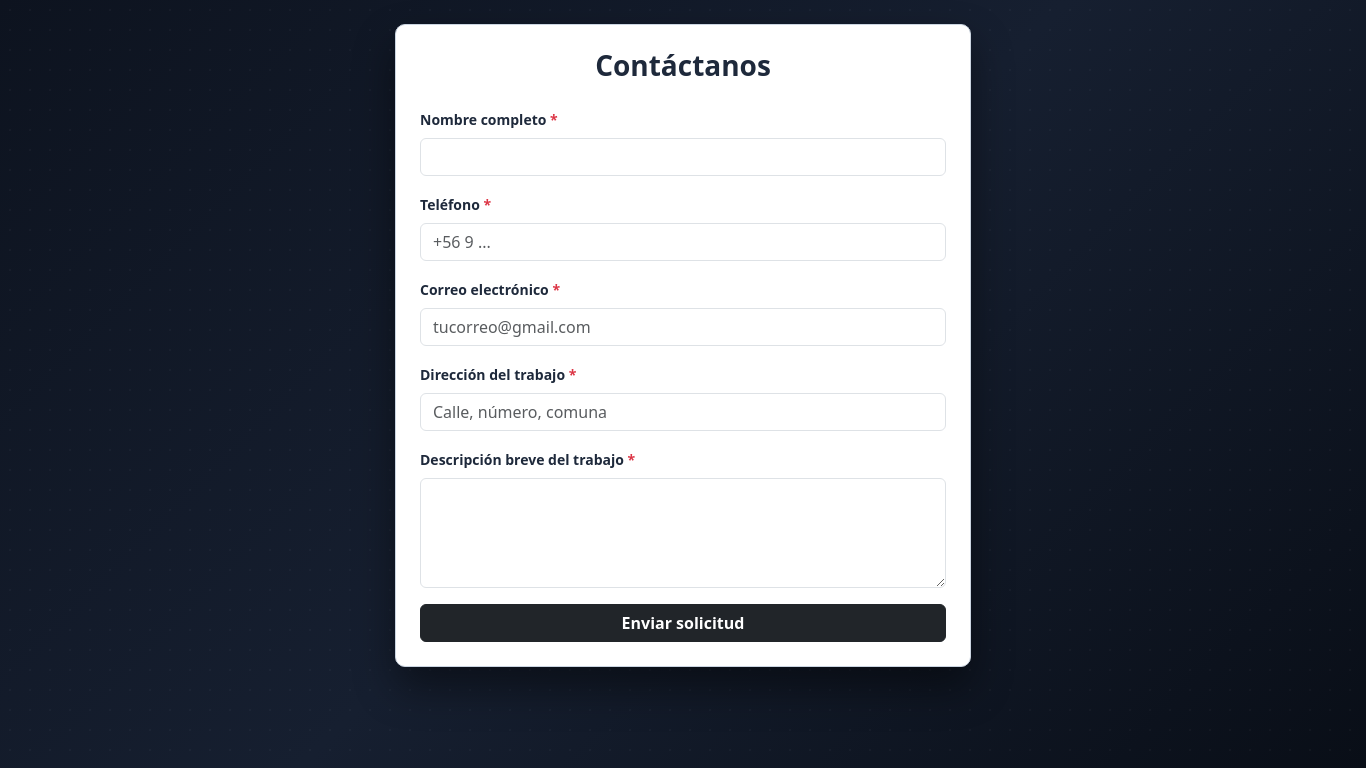
Test case: Pruebas de estado: Contacto › muestra el mensaje de éxito y limpia el formulario cuando los datos son válidos
Step 1. Type "Camilo Godoy" into the field labelled "Nombre completo *" → (683, 157), box [420,138,946,176]
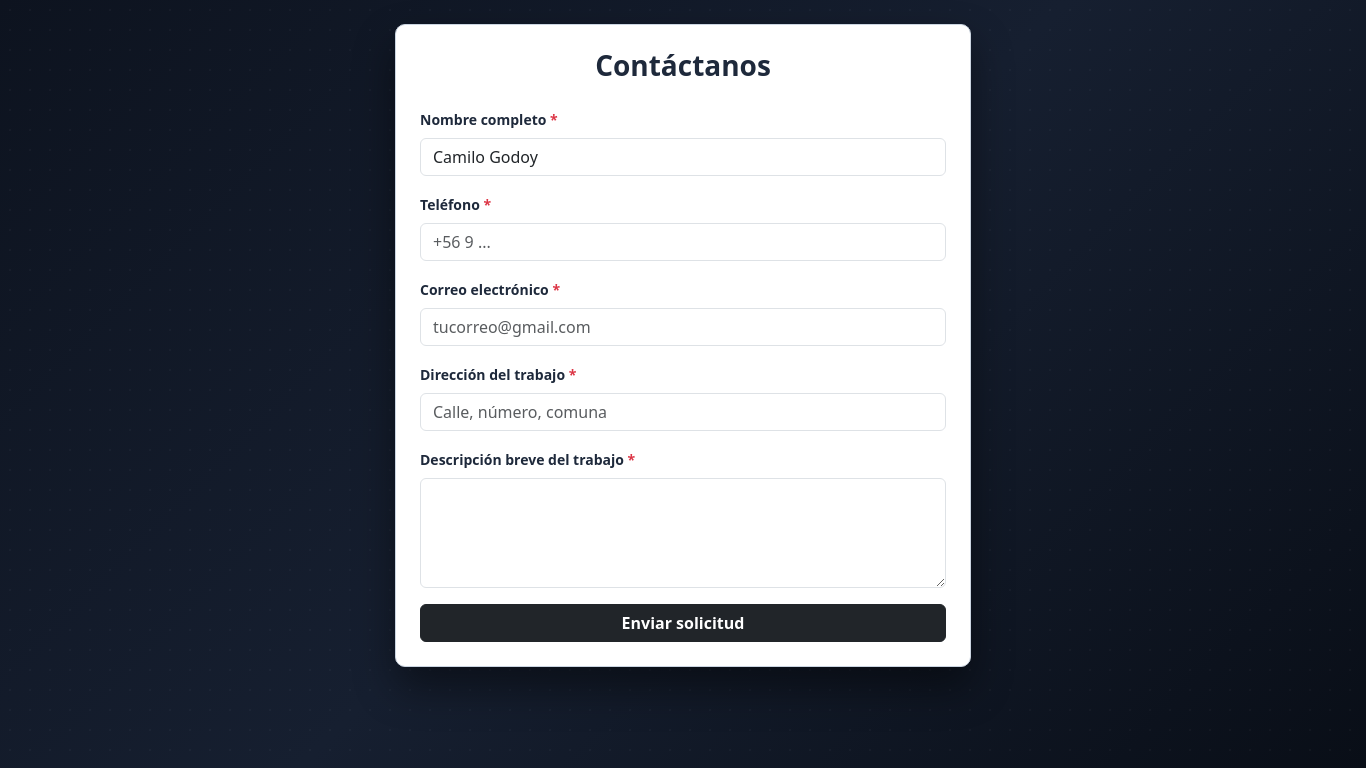
Step 2. Type "+56 9 1234 5678" into the field labelled "Teléfono *" → (683, 242), box [420,223,946,261]
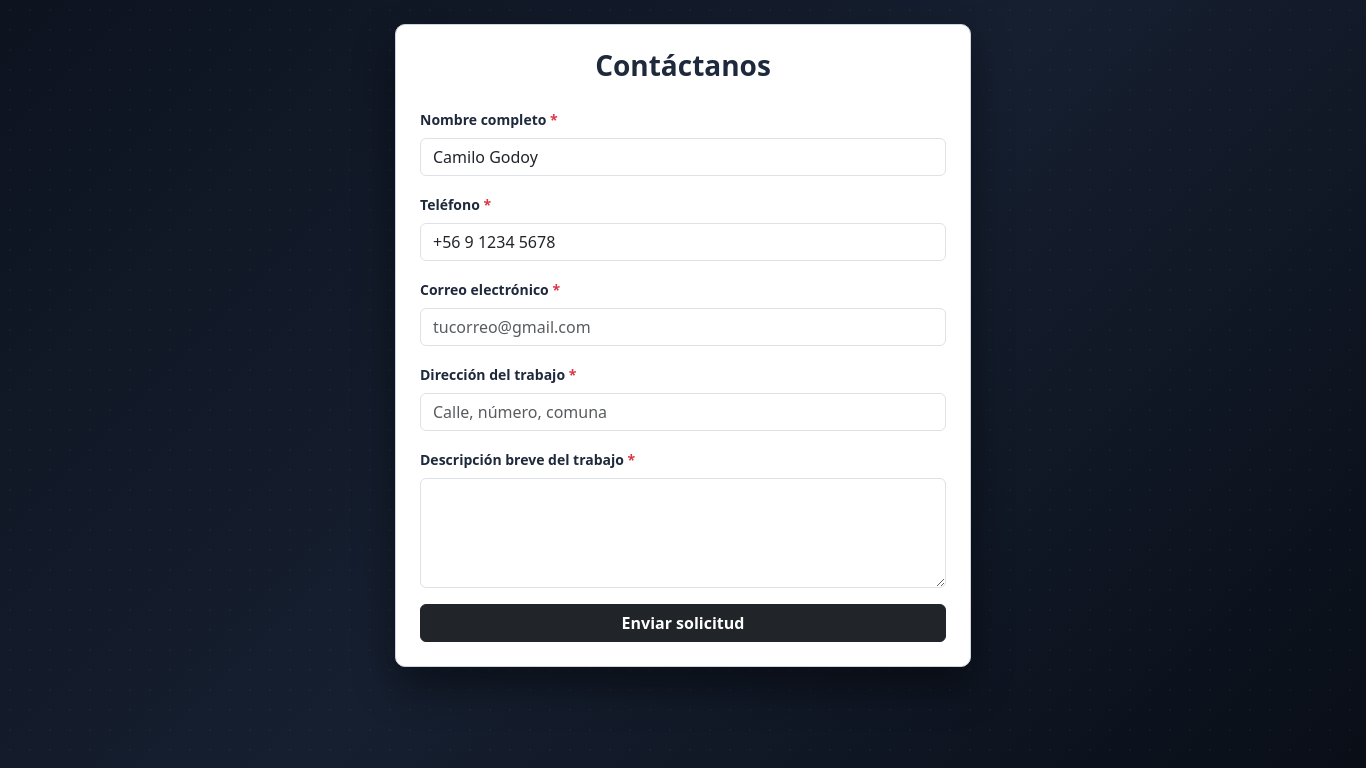
Step 3. Type "camilo@duoc.cl" into the field labelled "Correo electrónico *" → (683, 327), box [420,308,946,346]
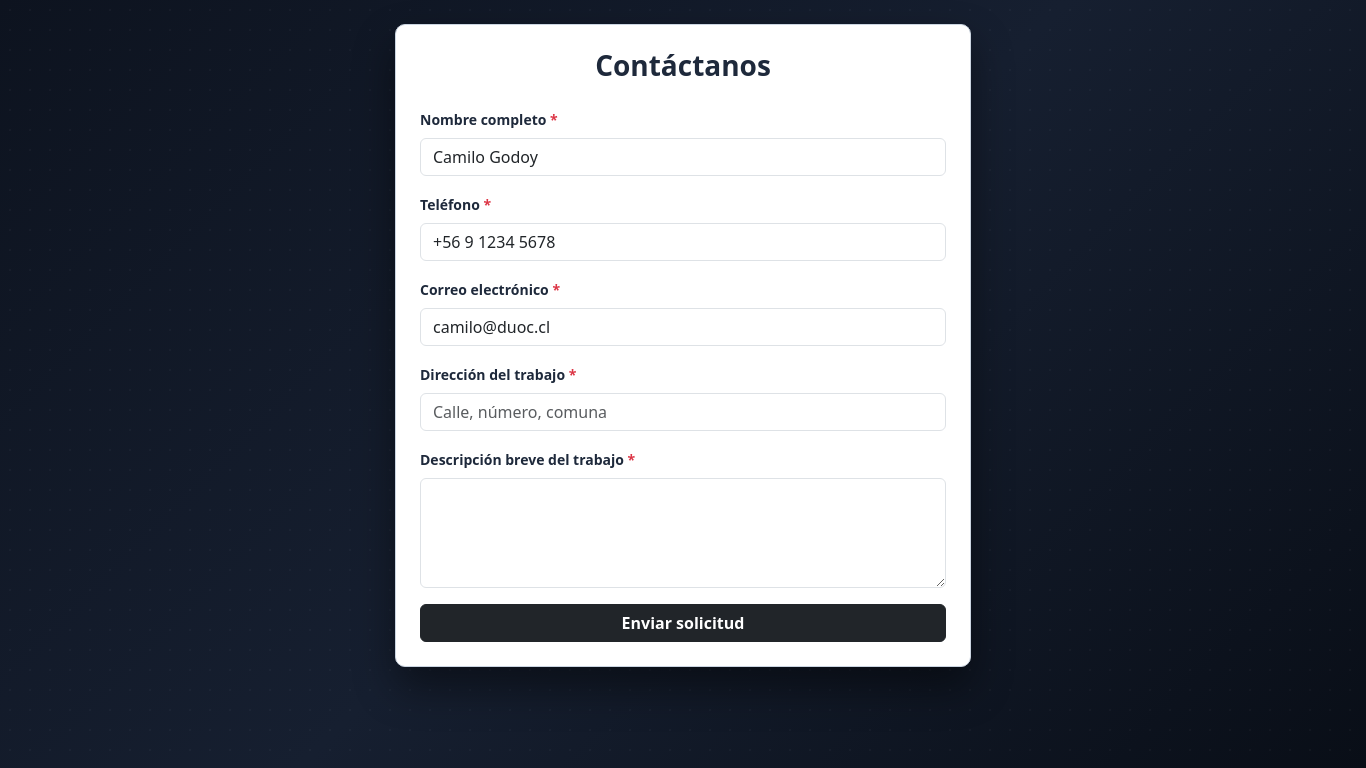
Step 4. Type "Concha y Toro 980" into the field labelled "Dirección del trabajo *" → (683, 412), box [420,393,946,431]
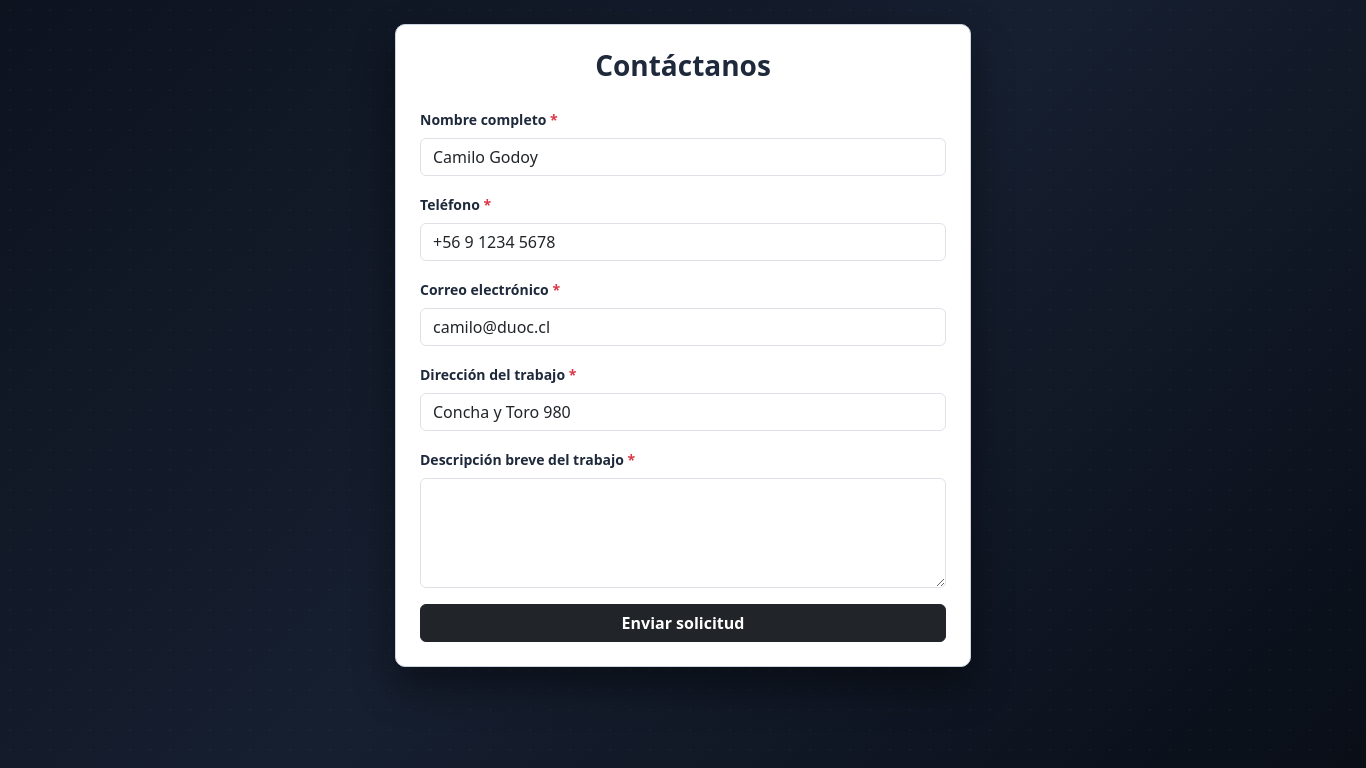
Step 5. Type "Necesito cotizar un radier de 20 m2" into the text box labelled "Descripción breve del trabajo *" → (683, 533), box [420,478,946,588]
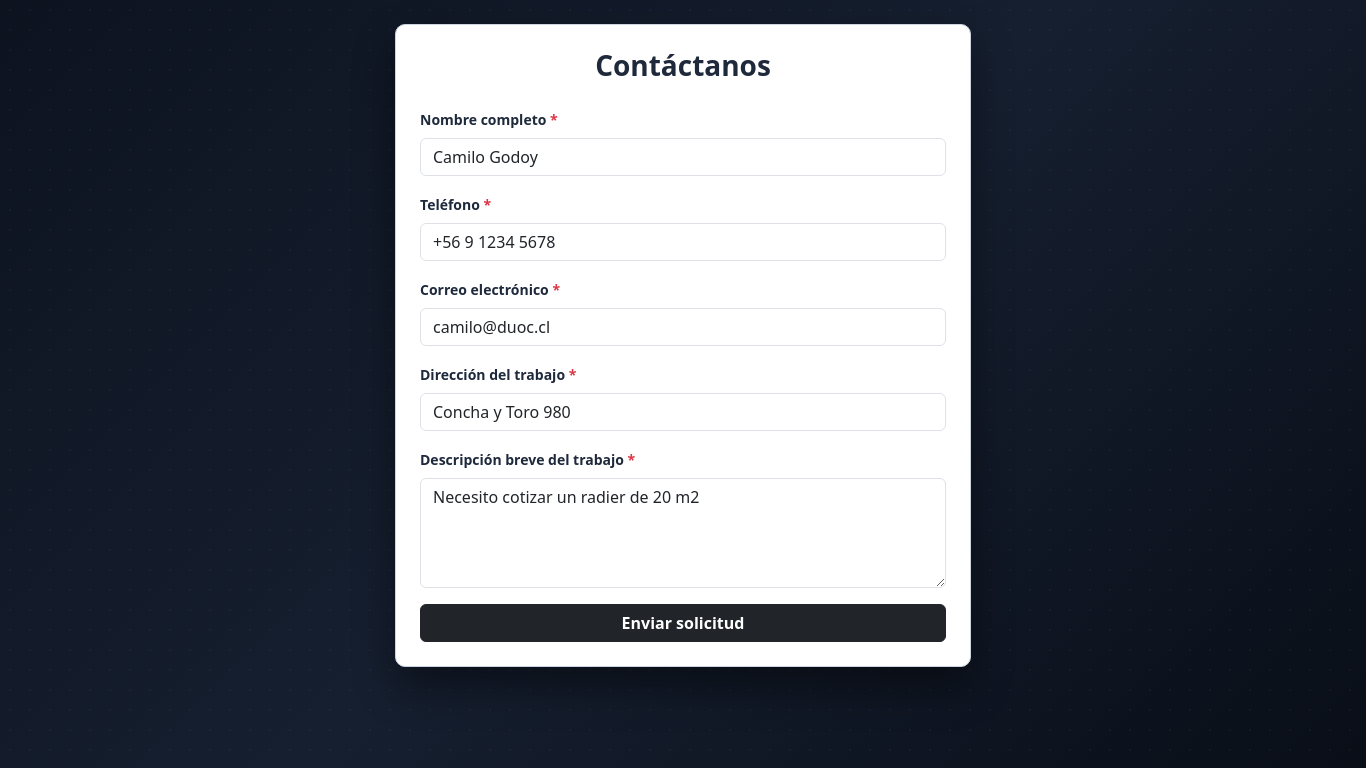
Step 6. Click the button "Enviar solicitud" → (683, 623), box [420,604,946,642]
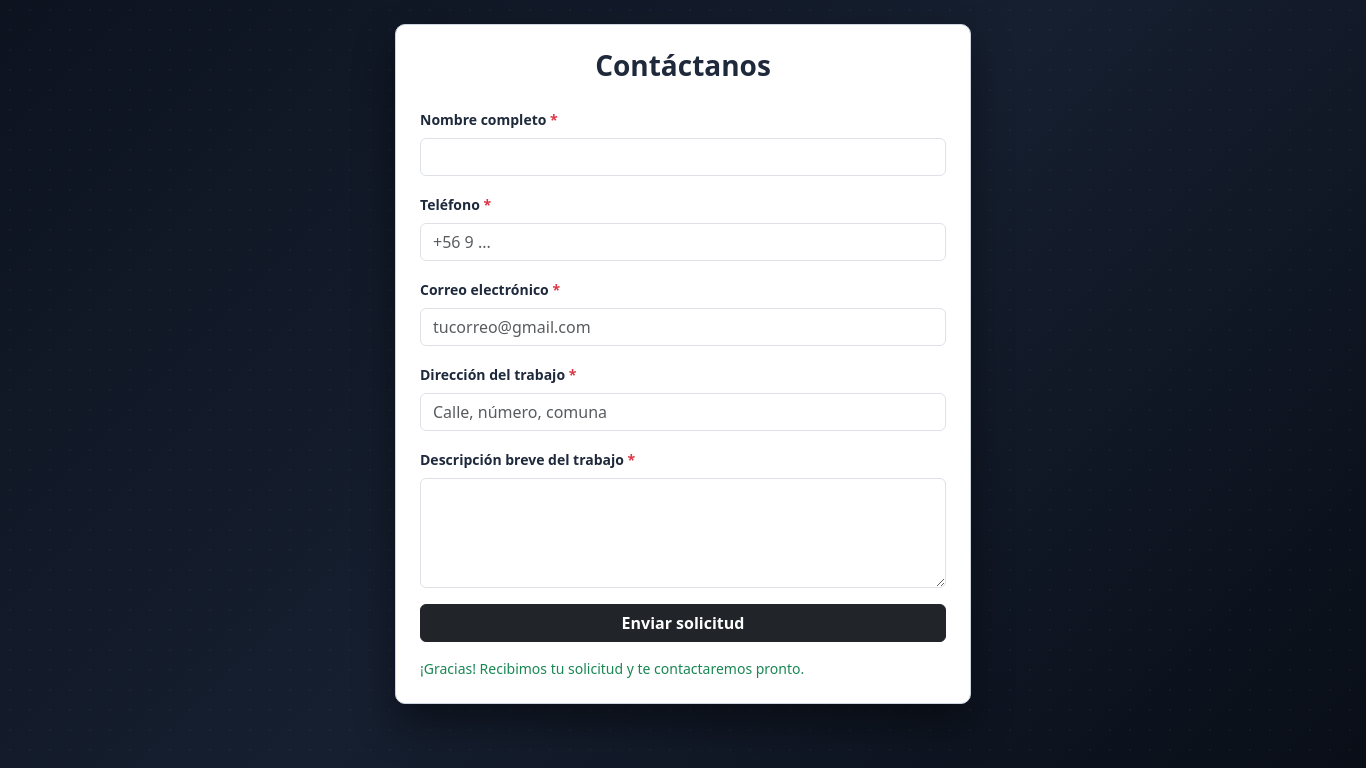
Now the message shows "Recibimos tu solicitud", box [420,659,804,678]
Now the field labelled "Nombre completo *" is empty, box [420,138,946,176]
